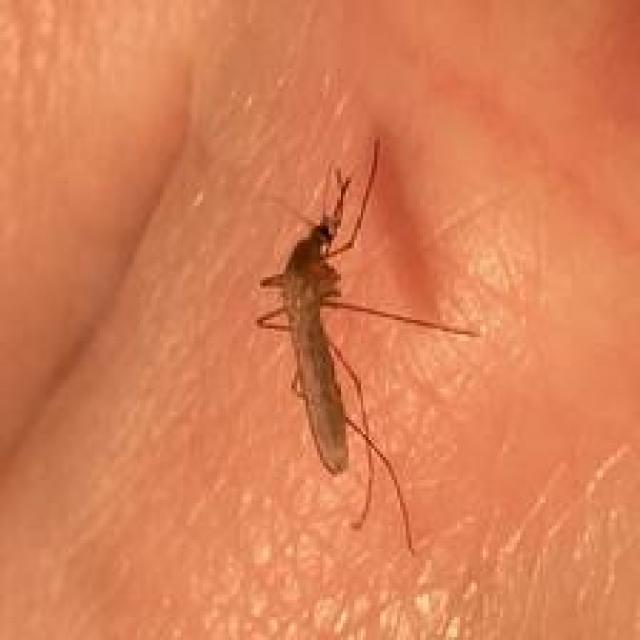Culex: (253, 135, 481, 556)
